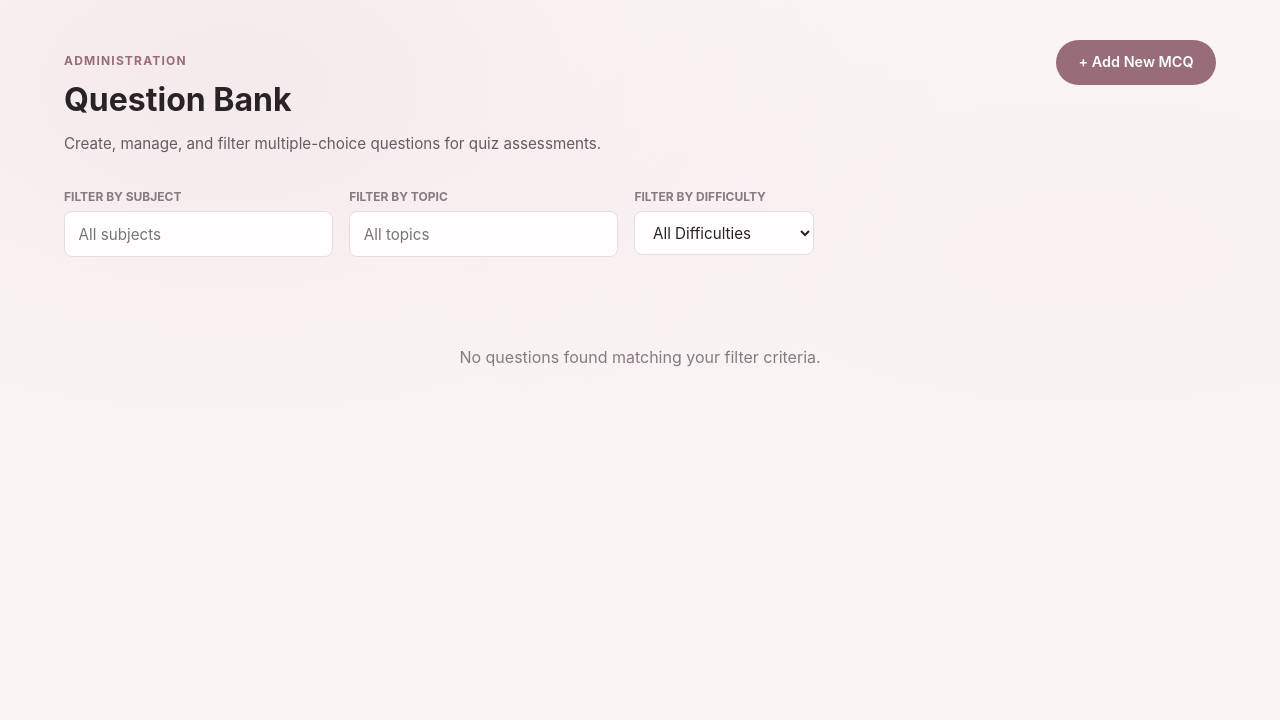
Test case: QuestionBankPage (CSMQ-23 / CSMQ-24) › opens Add MCQ form when clicking + Add New MCQ
Click the button "+ Add New MCQ": (1136, 62) [1056,40,1216,85]
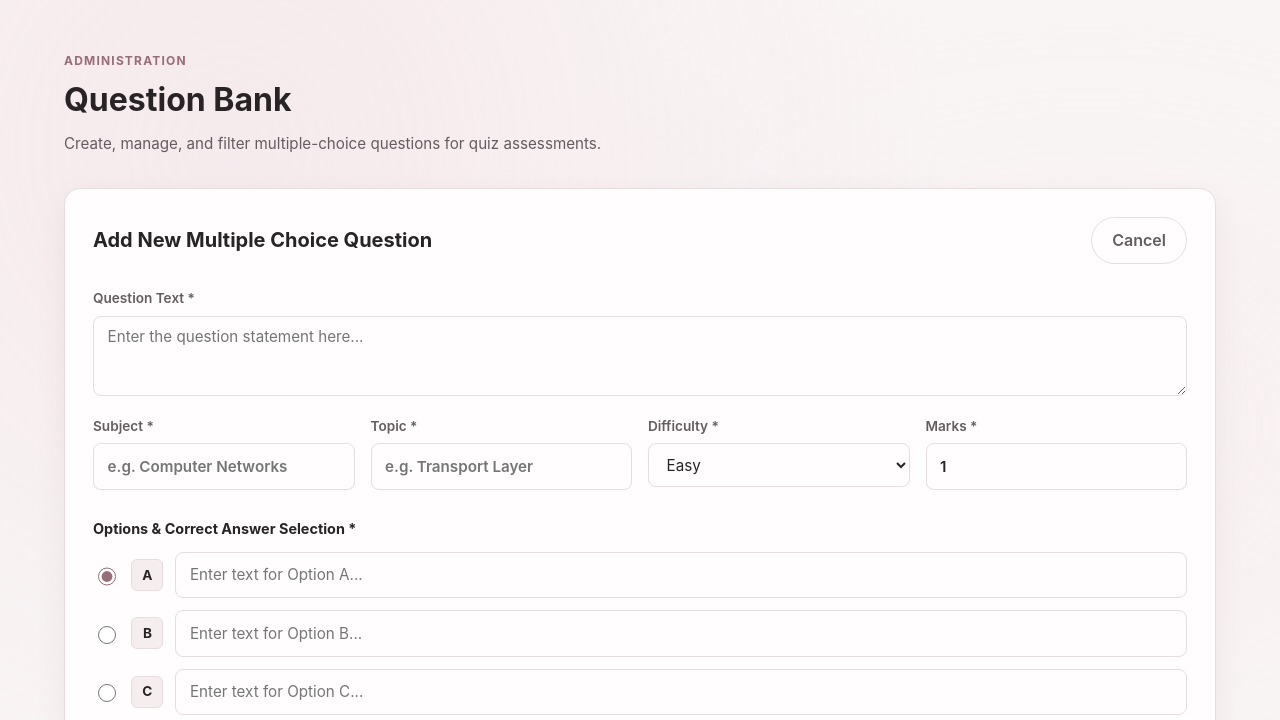
Check: the heading "Add New Multiple Choice Question" is shown, box [93,225,432,256]
Check: the text box labelled "Question Text *" is shown, box [93,316,1187,396]
Check: the field with placeholder "e.g. Computer Networks" is shown, box [93,443,354,490]
